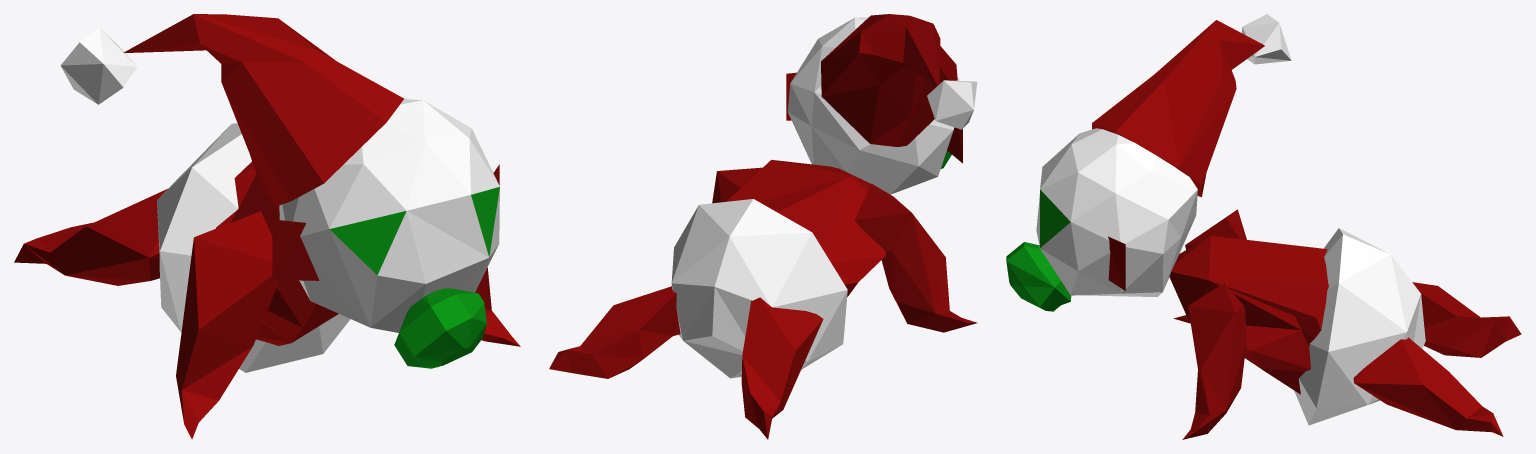
Rendered from ClownBaby.FBX.
The picture shows the model from 3 angles, left to right: view 1: azimuth 30°, elevation 25°; view 2: azimuth 150°, elevation 25°; view 3: azimuth 270°, elevation 25°; orthographic projection. The views are drawn at different scales.
Parts seen in each view (by area): view 1: Object003; view 2: Object003; view 3: Object003.
Part boxes in pixels (bbox=[...]): Object003: bbox=[14, 14, 520, 439]; Object003: bbox=[549, 14, 977, 439]; Object003: bbox=[1006, 14, 1521, 439].
Bounding box in the file's own units: 32.01 × 45.59 × 32.61.
